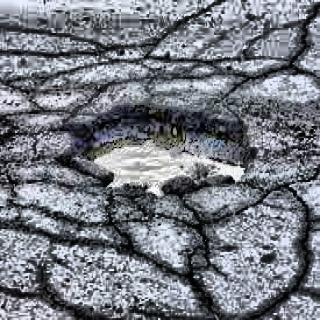alligator-crack: (86, 192, 318, 316), (78, 1, 318, 112), (1, 77, 75, 202)
pothole: (57, 101, 253, 199)
